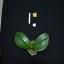leaf: (14, 31, 32, 50), (33, 33, 49, 51), (30, 44, 34, 48)
